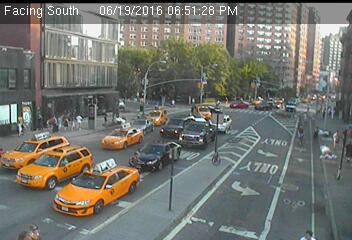neg: (246, 77, 262, 98), (117, 96, 129, 112), (96, 94, 108, 110), (196, 87, 205, 98)
pos: (289, 120, 310, 147), (330, 127, 347, 149), (29, 217, 44, 237), (74, 110, 87, 126), (58, 113, 70, 129), (14, 120, 26, 135), (44, 112, 56, 127), (304, 225, 315, 239), (17, 226, 27, 239)
